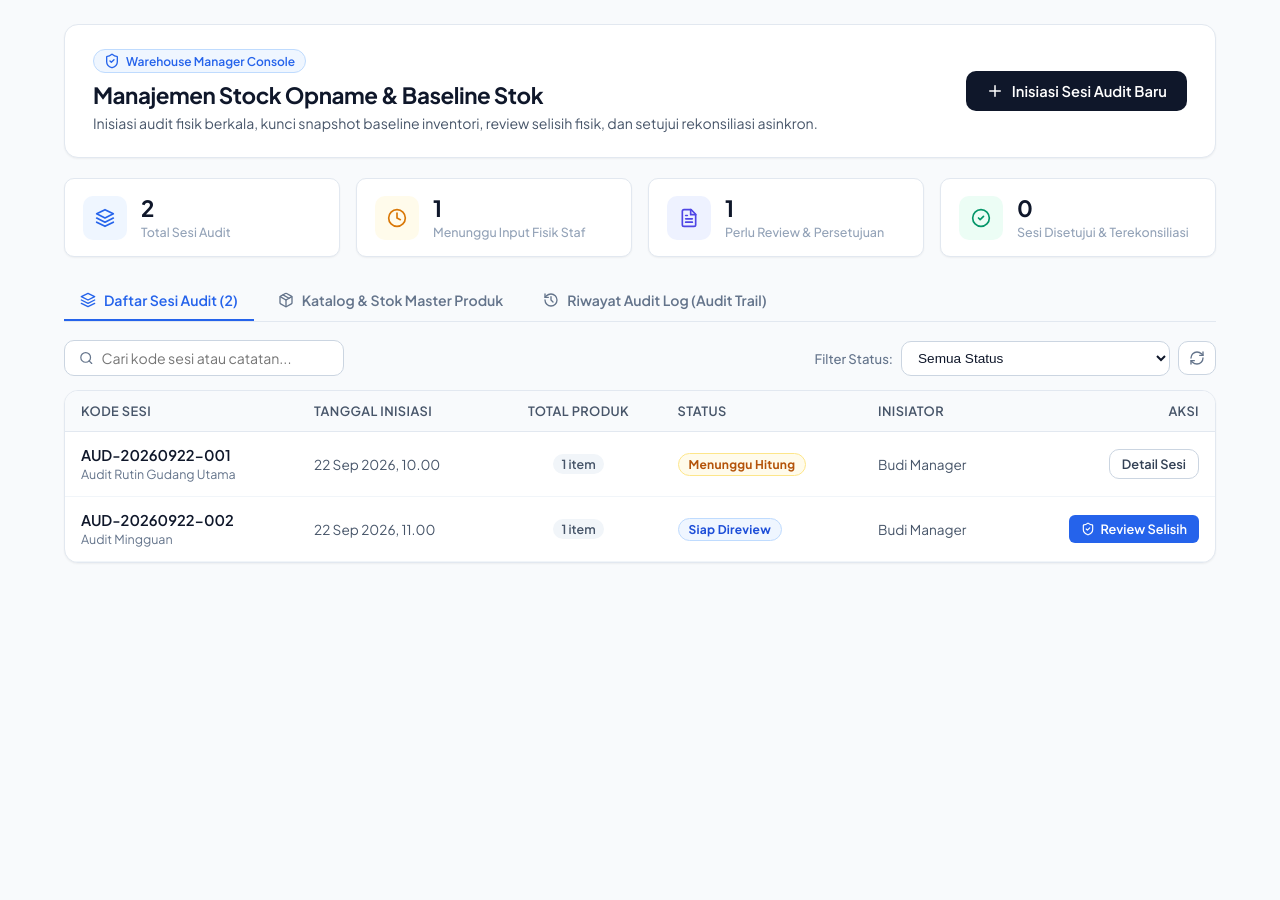
ManagerDashboard Component Tests › opens Create Session Modal when clicking Inisiasi Sesi Audit Baru
Click the button "Inisiasi Sesi Audit Baru".
click(1076, 91)  # box [966,71,1187,111]
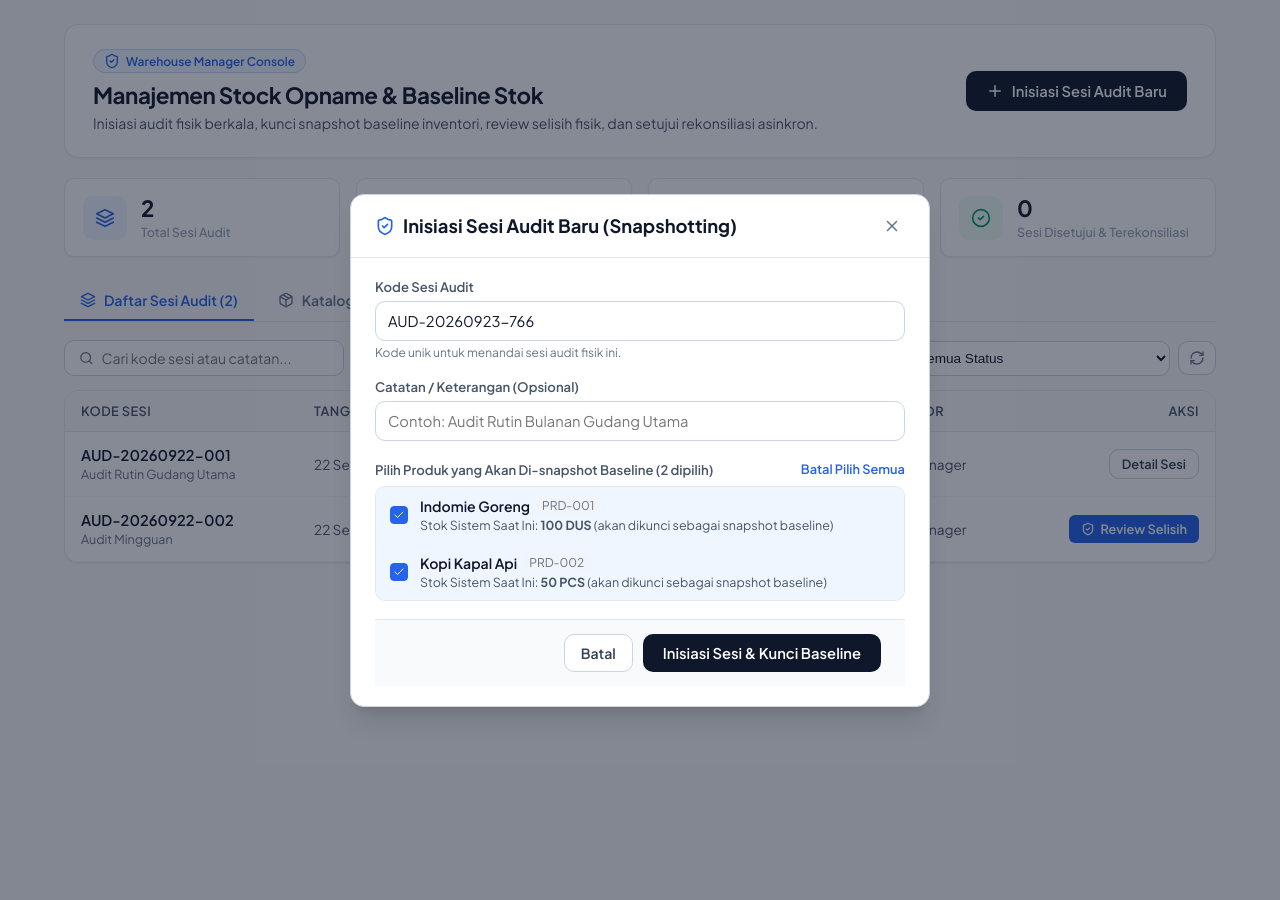
Now the heading "Inisiasi Sesi Audit Baru (Snapshotting)" is shown, box [403,214,737,237]
Now the field with placeholder "Contoh: AUD-20260922-001" is shown, box [375,300,905,340]
